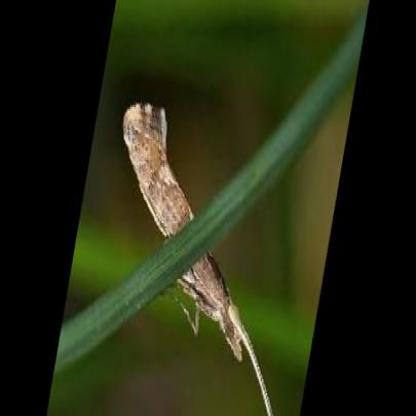plutella: (124, 99, 275, 414)
